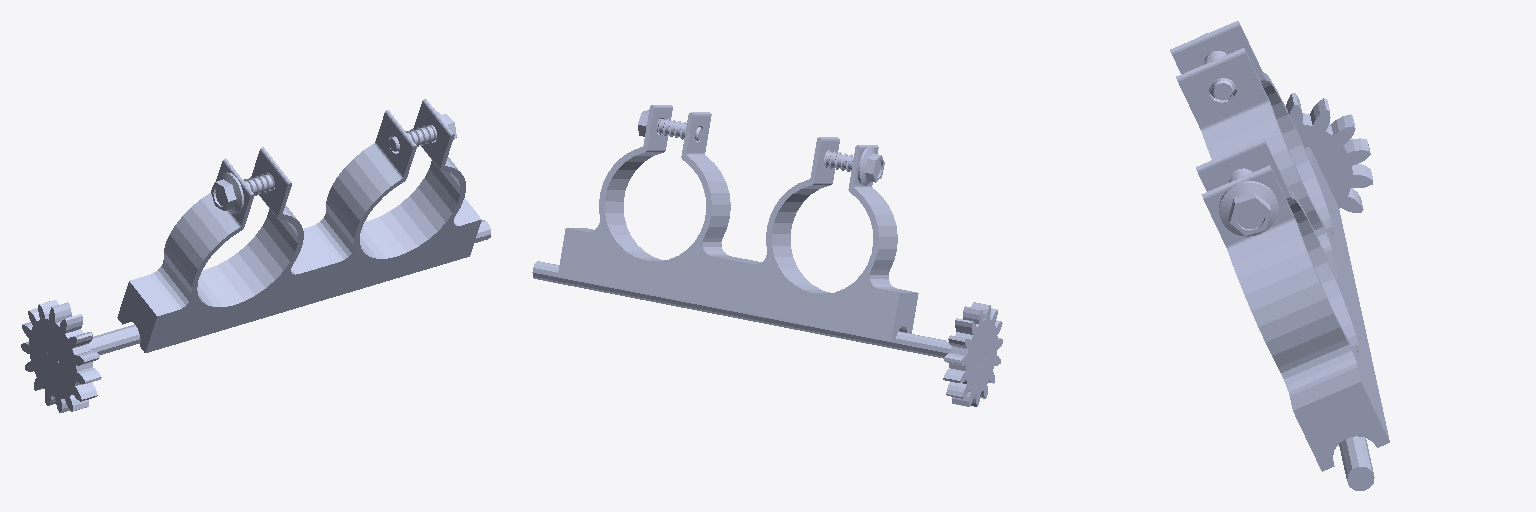
robot.urdf — Nozzle_top:
<?xml version="1.0" encoding="utf-8"?>
<!-- This URDF was automatically created by SolidWorks to URDF Exporter! Originally created by [author] ([email redacted]) 
     Commit Version: 1.6.0-1-g15f4949  Build Version: 1.6.7594.29634
     For more information, please see http://wiki.ros.org/sw_urdf_exporter -->
<robot
  name="Nozzle_top">
  <link
    name="base_nozzle">
    <inertial>
      <origin
        xyz="0.165723595293027 -0.473671367861745 0.383005311290877"
        rpy="0 0 0" />
      <mass
        value="0.00486150880044806" />
      <inertia
        ixx="1.98279071691391E-07"
        ixy="-4.92745905389468E-08"
        ixz="-4.45830399567396E-09"
        iyy="7.2844797927781E-07"
        iyz="4.83798697468186E-08"
        izz="6.39584656829329E-07" />
    </inertial>
    <visual>
      <origin
        xyz="0 0 0"
        rpy="0 0 0" />
      <geometry>
        <mesh
          filename="package://Nozzle_top/meshes/base_nozzle.STL" />
      </geometry>
      <material
        name="">
        <color
          rgba="0.792156862745098 0.819607843137255 0.933333333333333 1" />
      </material>
    </visual>
    <collision>
      <origin
        xyz="0 0 0"
        rpy="0 0 0" />
      <geometry>
        <mesh
          filename="package://Nozzle_top/meshes/base_nozzle.STL" />
      </geometry>
    </collision>
  </link>
</robot>

--- Facts derived from the render (not from the file) ---
The picture shows the robot from 3 angles, left to right: view 1: azimuth 30°, elevation 25°; view 2: azimuth 150°, elevation 25°; view 3: azimuth 270°, elevation 25°; orthographic projection.
Robot: Nozzle_top — 1 links, 0 joints (none); root link base_nozzle; default pose: all joints at 0.
Visible links, largest first — view 1: base_nozzle; view 2: base_nozzle; view 3: base_nozzle.
Link boxes in pixels (x1,y1,x2,y2): base_nozzle: (21,99,490,412); base_nozzle: (532,105,1002,406); base_nozzle: (1170,21,1389,490).
Size in the robot's own frame: 0.0806 by 0.0236 by 0.0379 metres.
Meshes: 1 distinct files referenced, 1 mesh visuals loaded (1 binary STL).